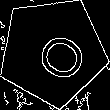O_NW: (20, 20, 85, 83)
